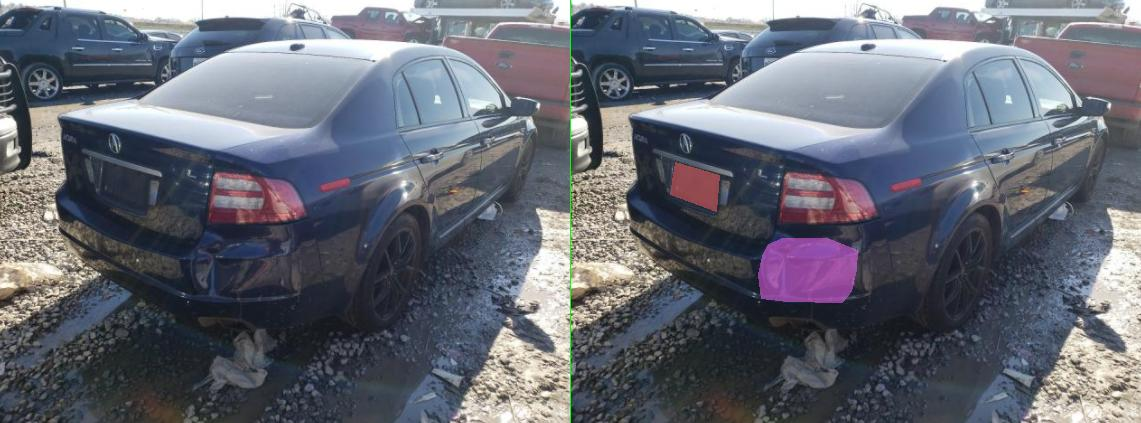Dent: (374, 238, 573, 302)
Missing part: (198, 162, 296, 211)
